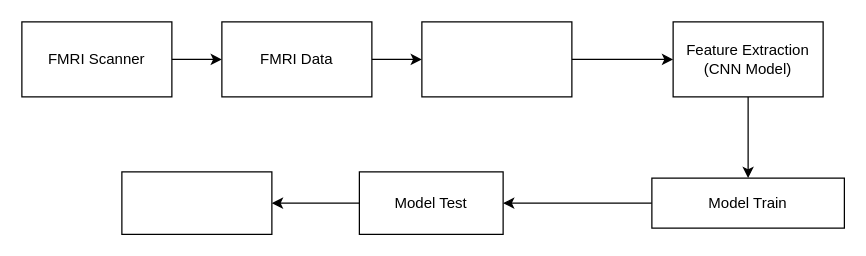
The diagram is 866 pixels wide and 256 high, and some of its shapes have lost their labels. Here are the shapes that lost their labels. From the top down, the box of each, then its label:
(421, 21, 572, 97): Data Preprocessing
(121, 171, 272, 234): Decision
